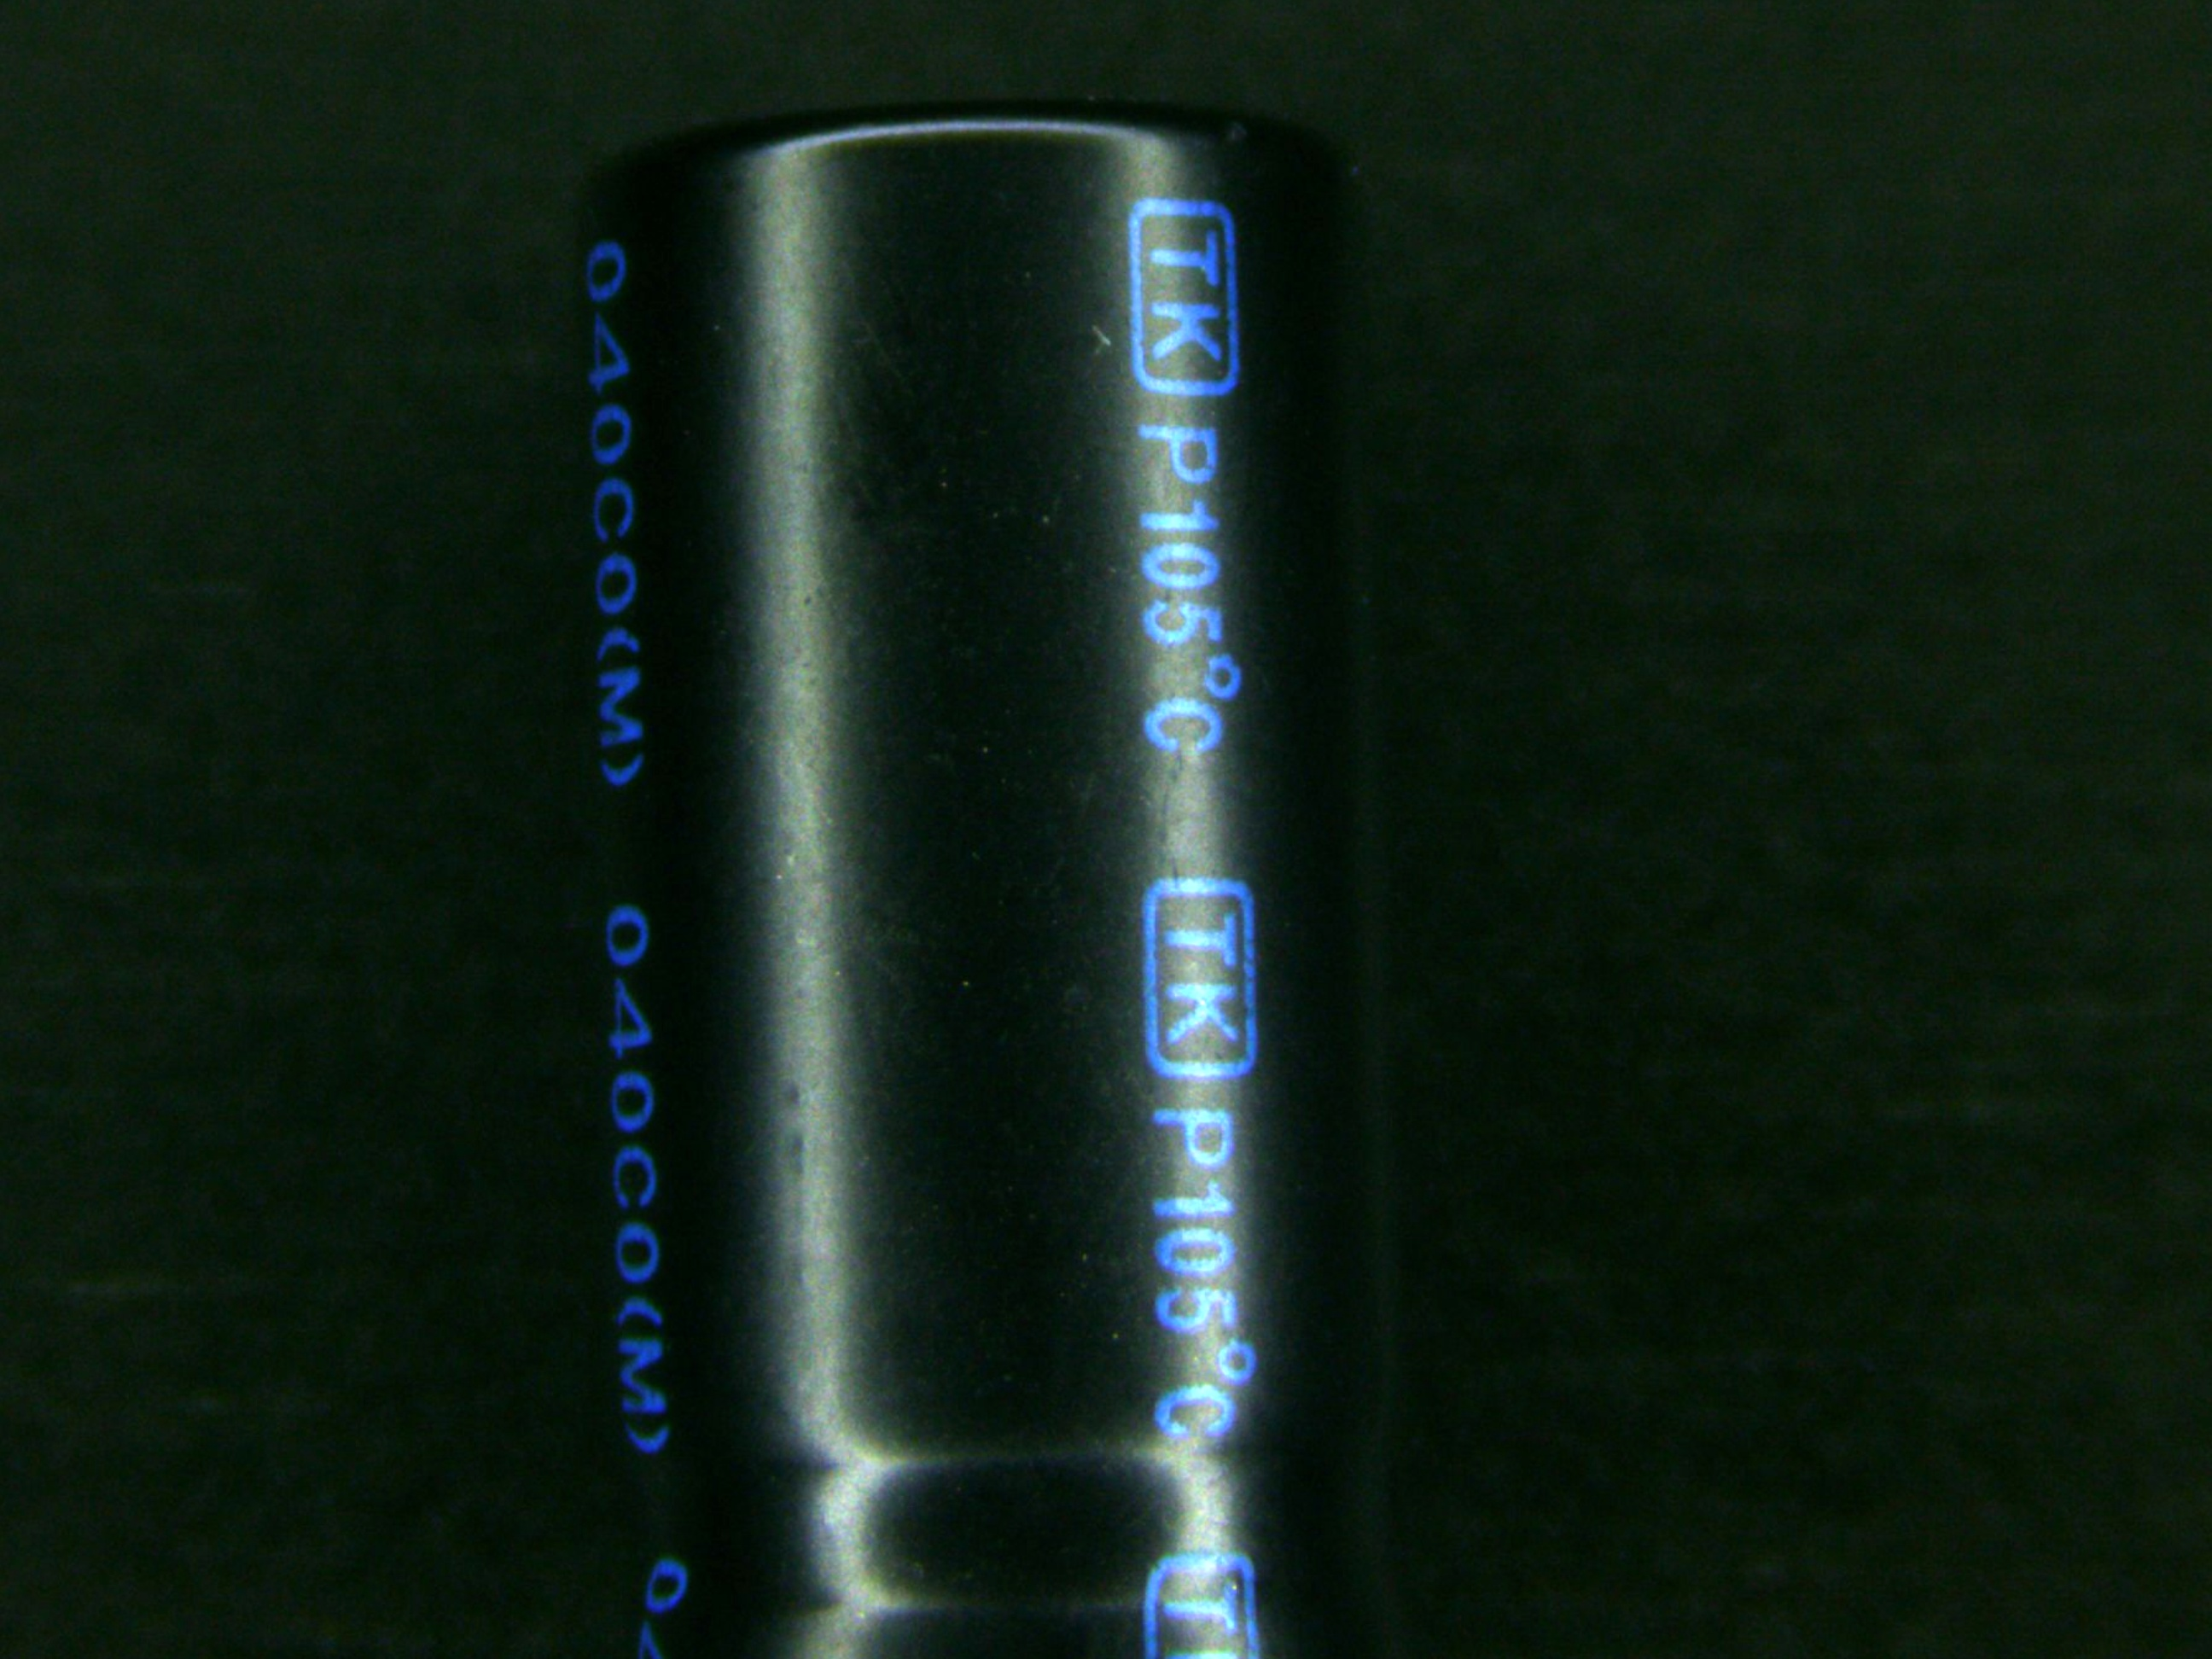c2: (543, 101, 1406, 1659)
